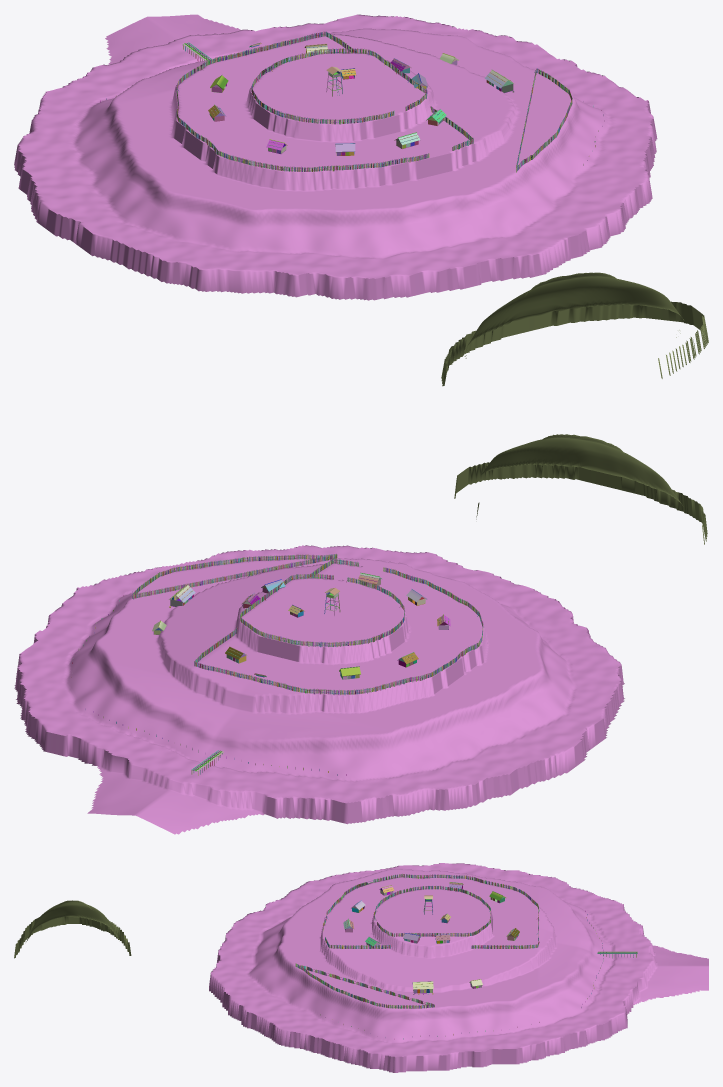
File: castle.glb
3 renders of one model, top to bottom at view 1: azimuth 30°, elevation 25°; view 2: azimuth 150°, elevation 25°; view 3: azimuth 270°, elevation 25°, orthographic. The views are drawn at different scales.
Parts seen in each view (by area): view 1: castle_ground, castle; view 2: castle_ground, castle; view 3: castle_ground, castle.
Part boxes in pixels (x1,y1,x2,y2): castle_ground: [14, 14, 708, 386]; castle: [100, 31, 604, 172]; castle_ground: [14, 434, 707, 834]; castle: [71, 554, 483, 775]; castle_ground: [14, 863, 708, 1072]; castle: [295, 874, 637, 1039].
Size of the model in its own units: 245 by 44.1 by 367.
